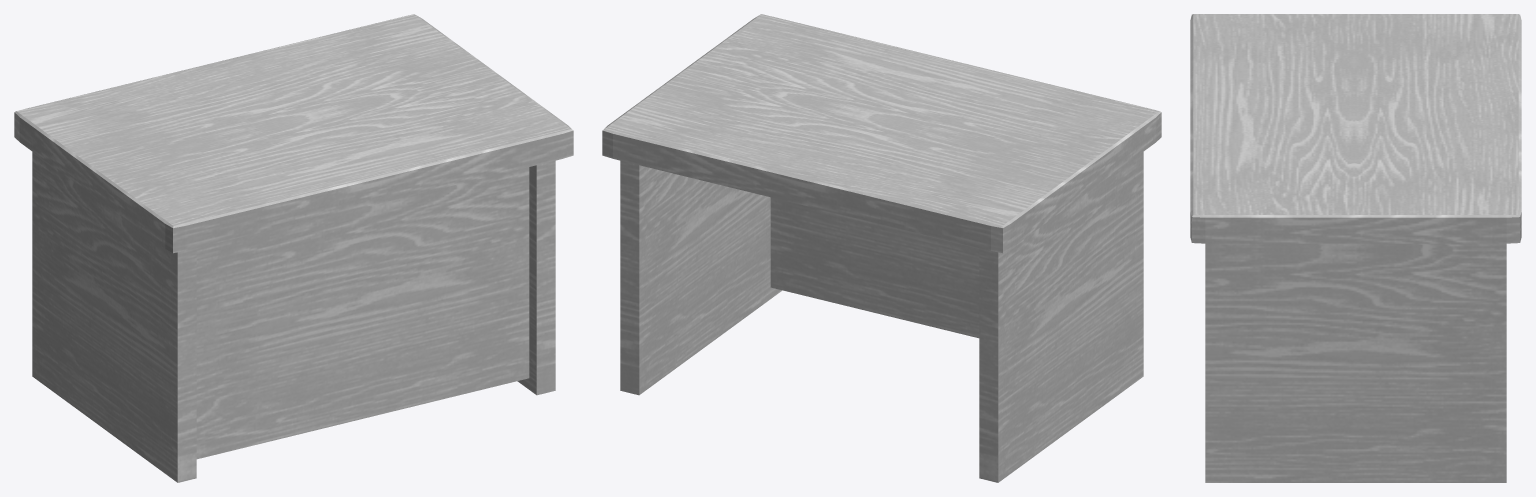
Rendered from Desk.fbx.
The picture shows the model from 3 angles, left to right: view 1: azimuth 30°, elevation 25°; view 2: azimuth 150°, elevation 25°; view 3: azimuth 270°, elevation 25°; orthographic projection. The views are drawn at different scales.
Visible parts, largest first — view 1: Cube; view 2: Cube; view 3: Cube.
Part boxes in pixels (left/top/right/bottom): Cube: left=14, top=14, right=573, bottom=482; Cube: left=602, top=14, right=1161, bottom=482; Cube: left=1190, top=14, right=1521, bottom=482.
Size of the model in its own units: 320 by 200 by 220.
